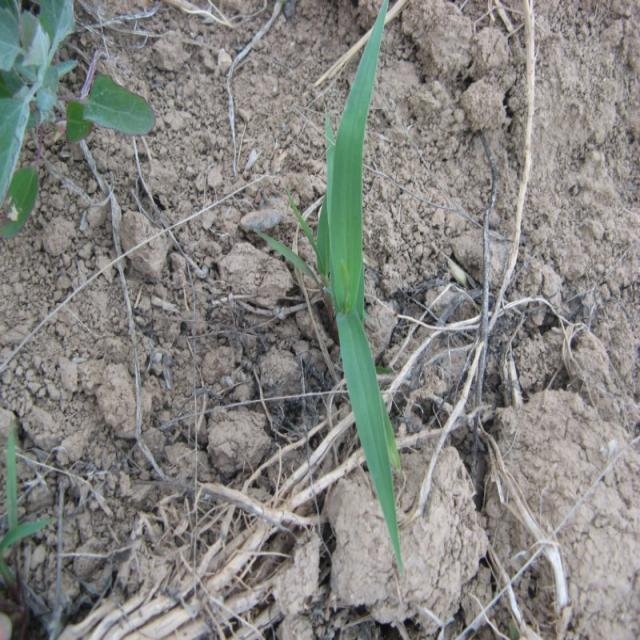bg: (256, 3, 403, 578)
